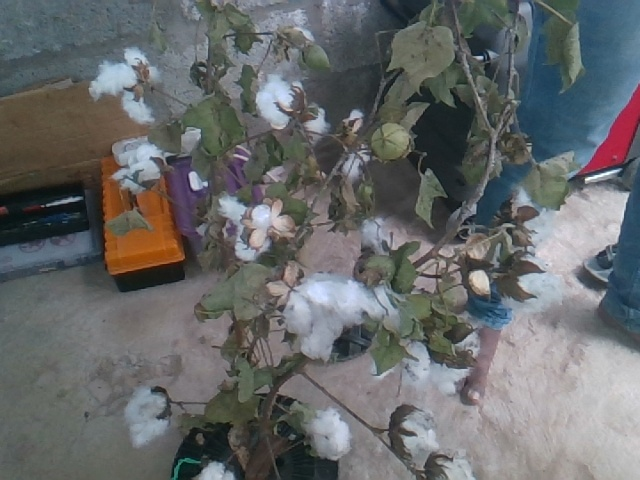cotton: (283, 279, 370, 357), (124, 386, 168, 450), (222, 212, 273, 258), (88, 56, 137, 102), (115, 144, 160, 192), (255, 75, 295, 128), (309, 409, 350, 457), (406, 343, 432, 386)
